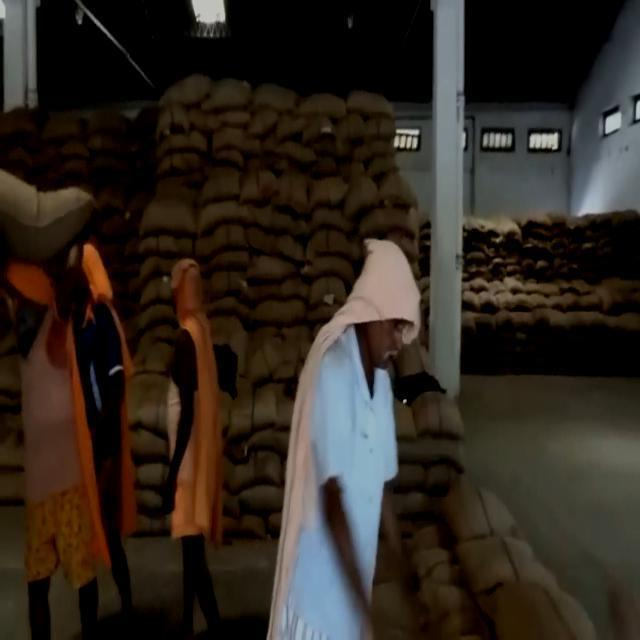gunny_bag: (0, 172, 100, 268), (467, 580, 600, 640), (455, 533, 563, 595), (434, 473, 528, 543), (228, 375, 278, 446), (225, 446, 283, 502), (408, 393, 462, 445), (194, 198, 254, 239), (248, 335, 300, 382), (398, 434, 464, 471), (268, 176, 317, 223), (159, 70, 211, 114), (360, 202, 420, 238), (306, 230, 360, 269), (247, 78, 300, 115), (146, 199, 197, 237), (198, 76, 250, 113), (148, 124, 208, 156), (147, 230, 200, 264), (200, 126, 264, 154), (246, 253, 294, 290), (398, 488, 462, 515), (237, 172, 280, 212), (298, 90, 346, 124), (36, 111, 88, 142), (1, 103, 42, 142), (340, 176, 377, 217), (248, 302, 306, 328), (85, 108, 134, 138), (350, 136, 394, 169), (204, 168, 242, 205), (343, 90, 397, 116), (270, 141, 320, 169), (91, 130, 141, 158), (135, 303, 175, 336), (135, 255, 172, 289), (316, 175, 352, 208), (150, 178, 202, 200), (311, 275, 343, 309), (211, 218, 247, 248), (202, 273, 248, 296), (52, 157, 94, 180), (94, 153, 128, 179), (51, 140, 92, 159)
